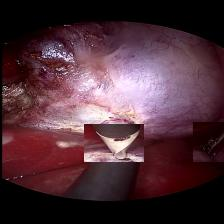Grasper: (192, 122, 224, 162)
Hook: (83, 124, 143, 162)
